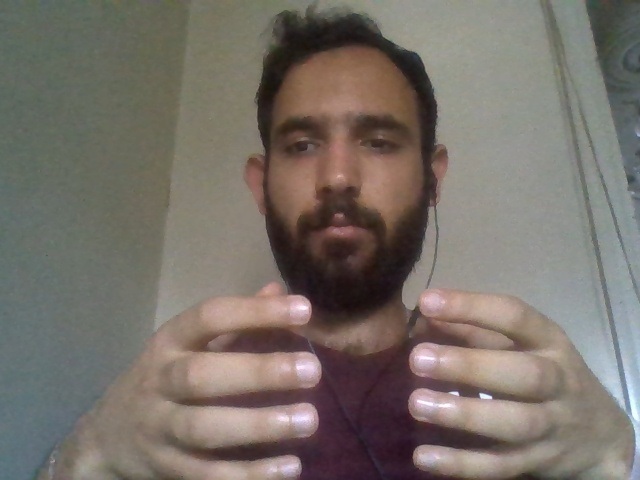Story: (155, 262, 582, 480)
